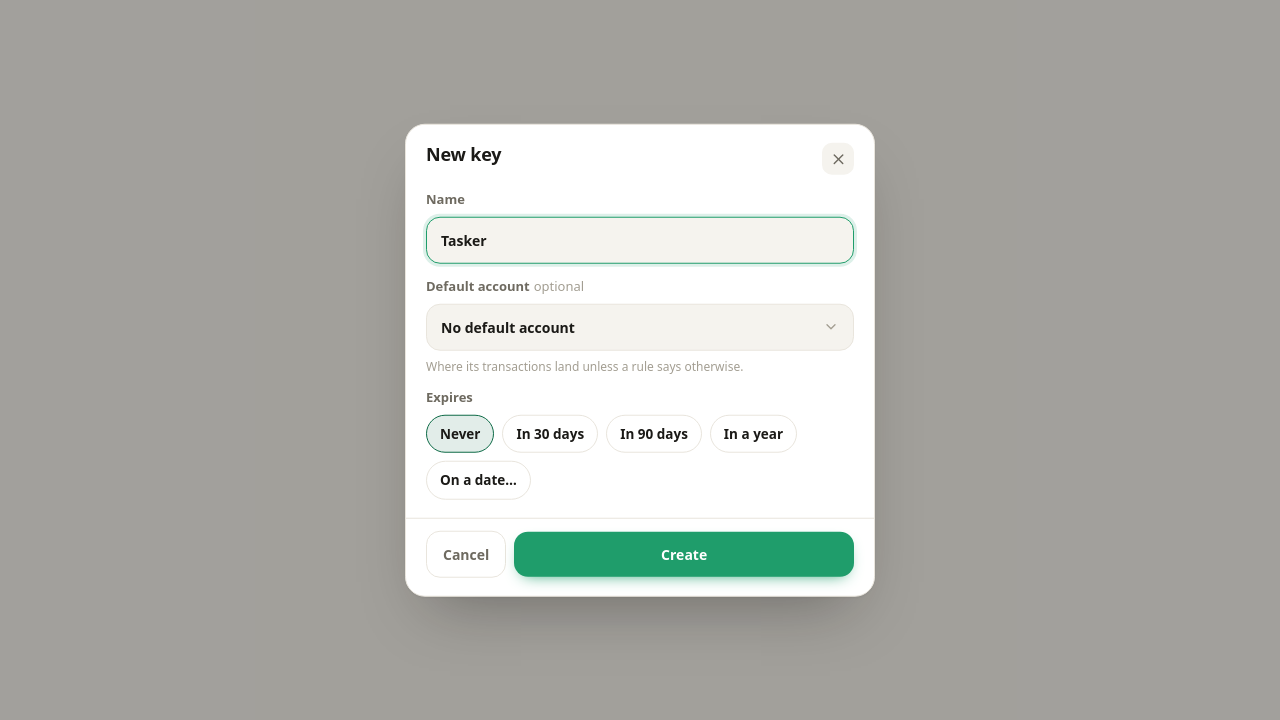
Test: CreateKeyDialog › puts a taken name beside the name field
The image size is (1280, 720).
Click the button "Create" at (684, 554), box [514,531,854,576]
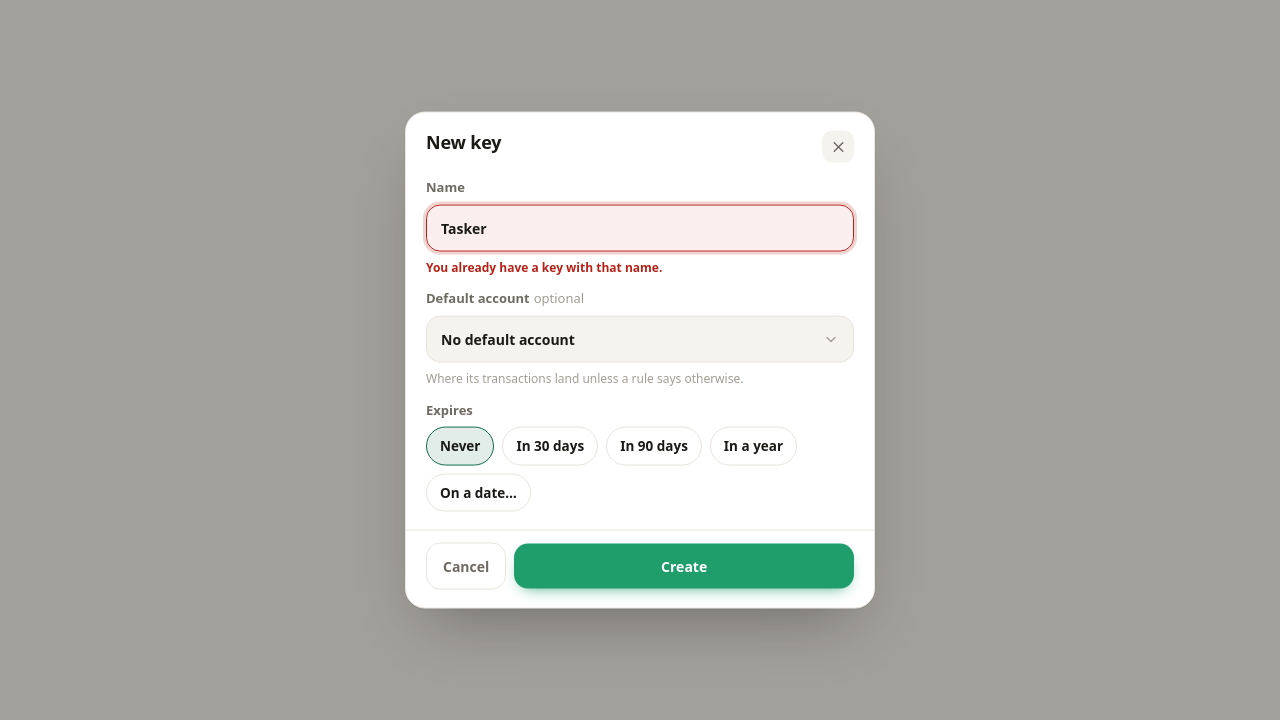
Expected: the text "You already have a key with that name." is shown, [426,258,662,275]
